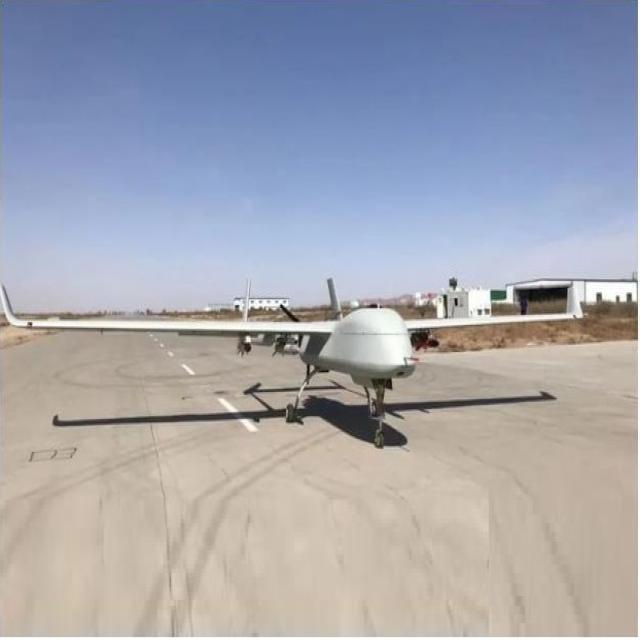iha: (1, 269, 597, 449)
